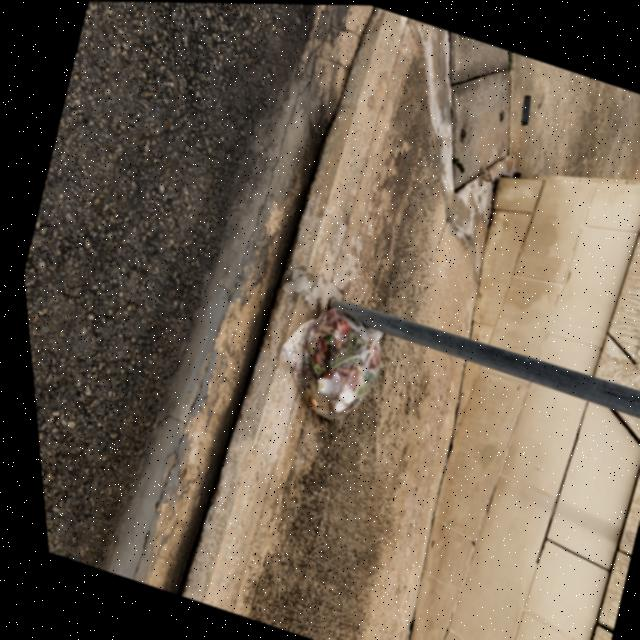Organic Waste -White Bag-: (268, 298, 393, 430)
